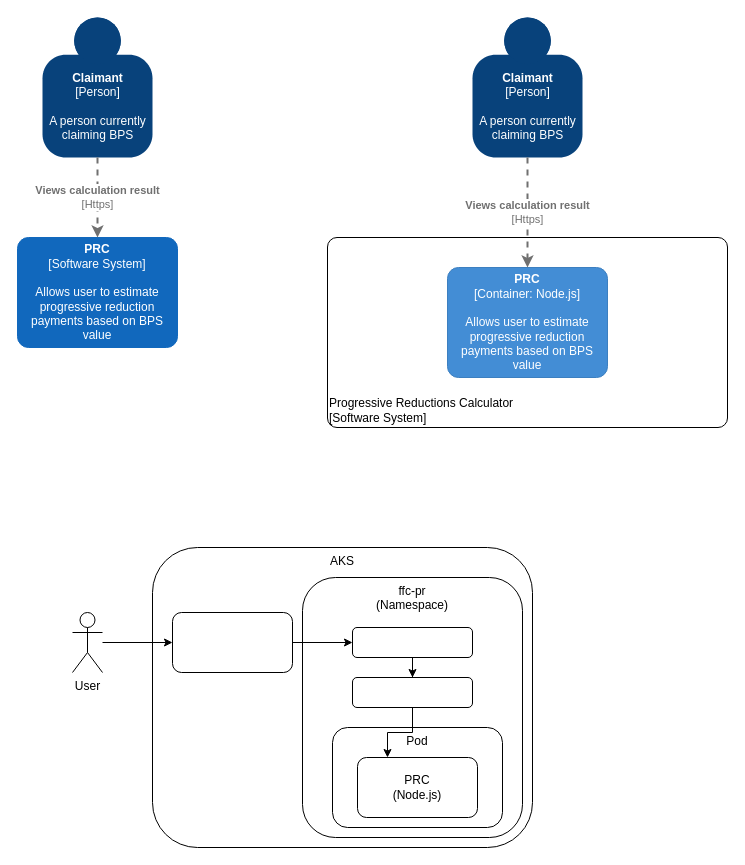
Image size: 745x865. Some labels were removed from this diagram. Each missing label, with the centre of its shape:
"Ingress" goes at (412,642).
"Ingress Controller (Platform provided)" goes at (232,642).
"Service" goes at (412,692).
